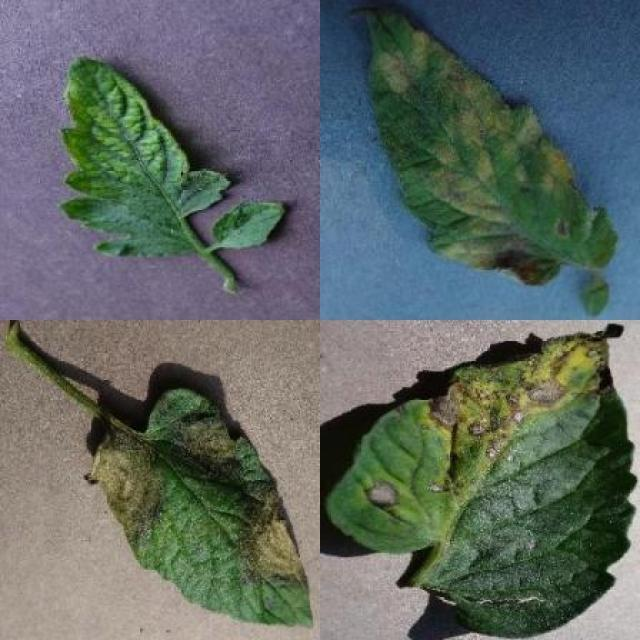Early Blight: (329, 323, 637, 640)
Late Blight: (90, 388, 317, 631)
Leaf Mold: (360, 4, 623, 287)
Mosaic Virus: (60, 55, 230, 261), (209, 197, 287, 250)
